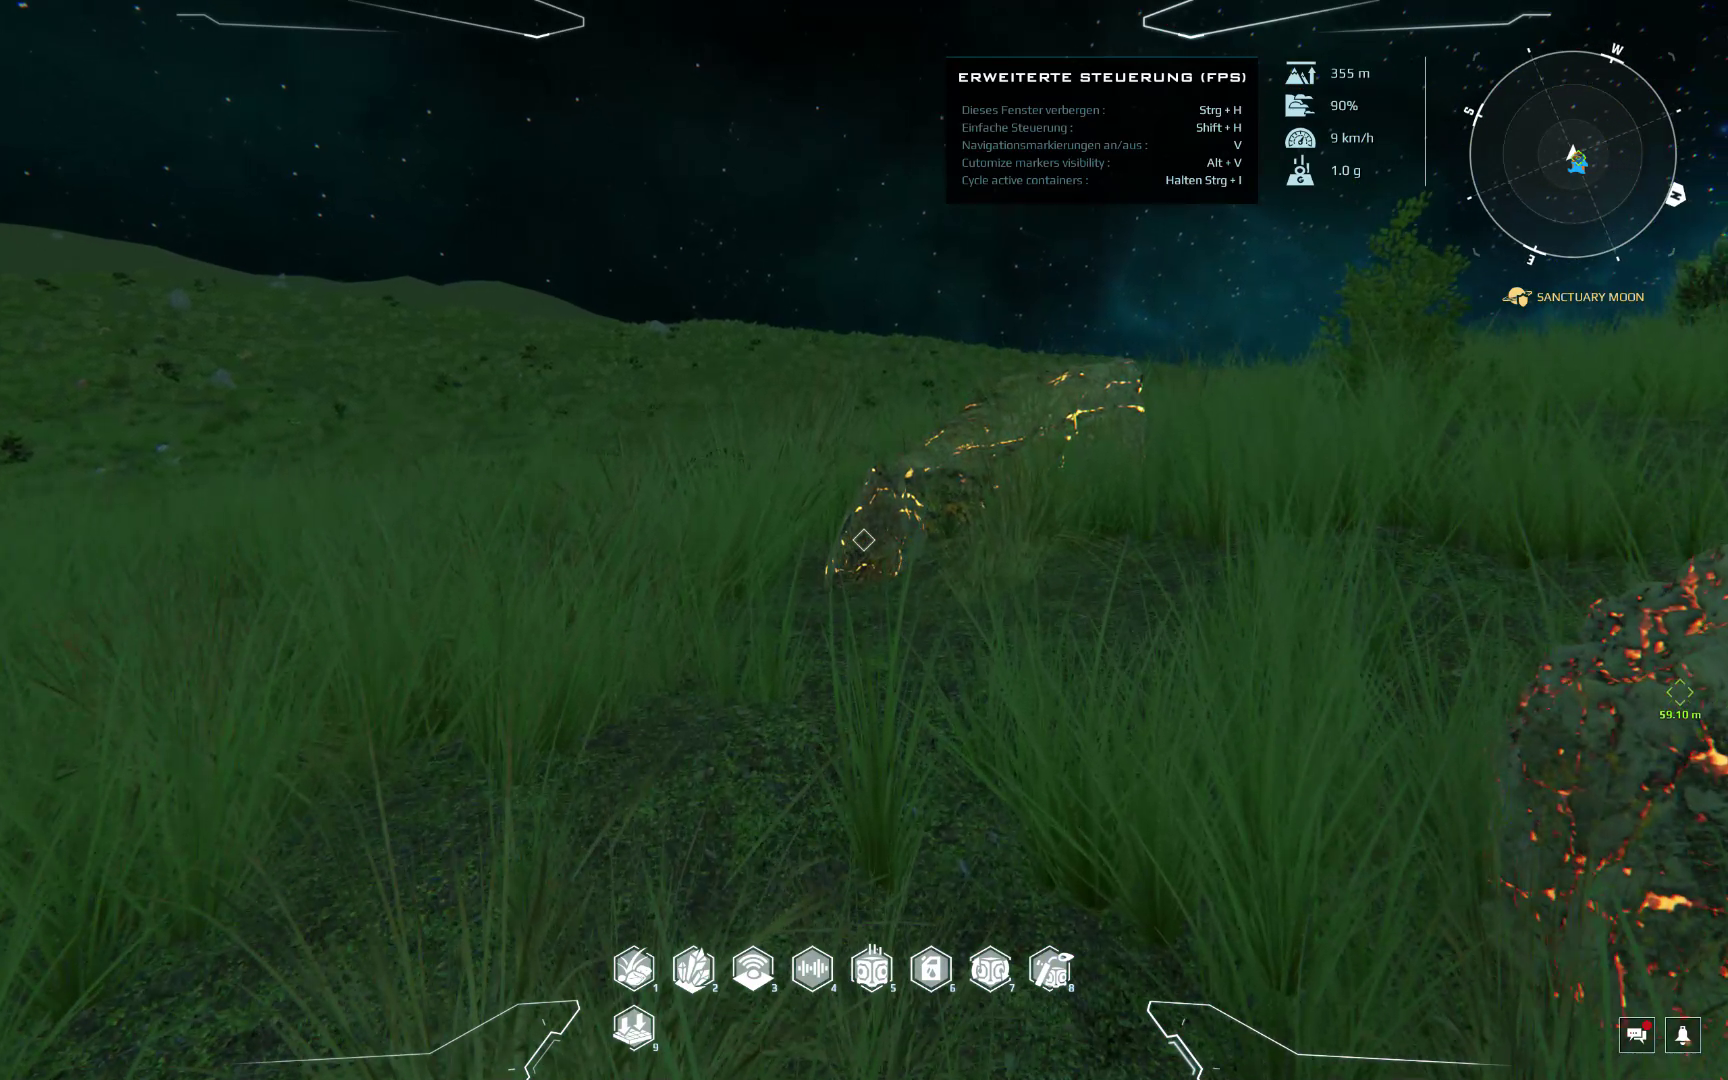Ore: (1456, 546, 1728, 1036), (911, 358, 1150, 547), (816, 450, 939, 581)
